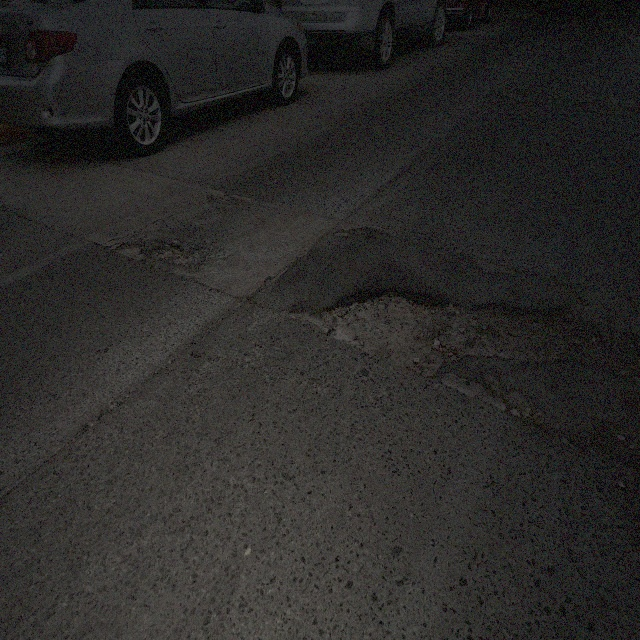pothole: (303, 297, 579, 387), (582, 312, 640, 385), (119, 238, 197, 275)
